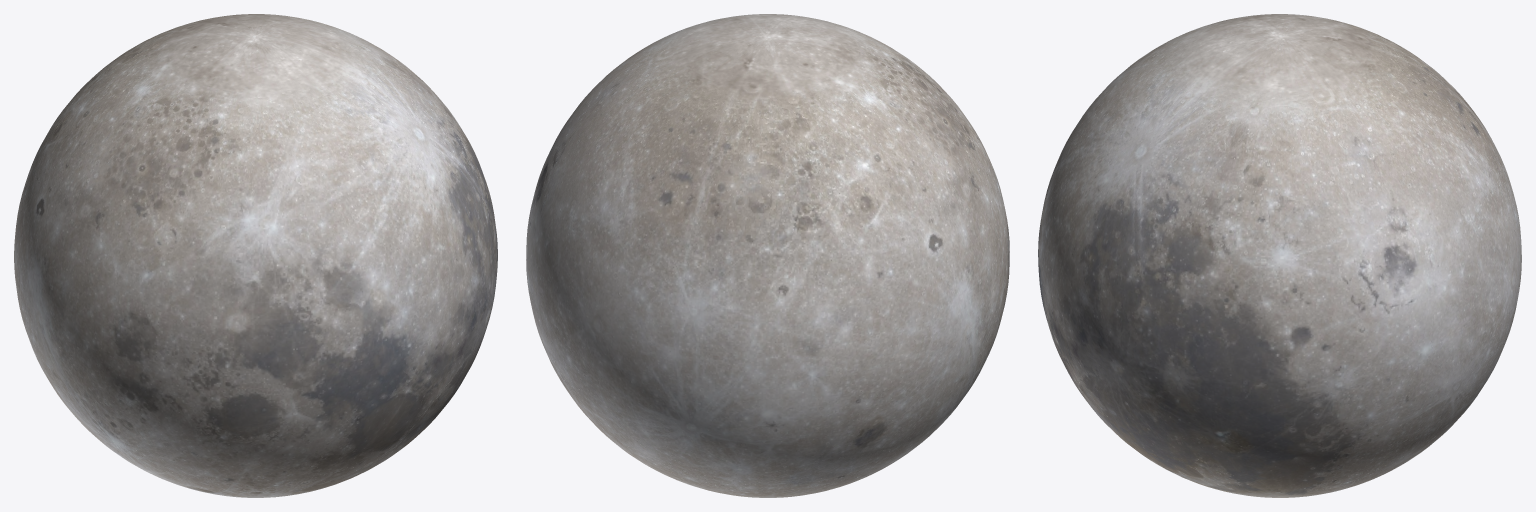
Rendered from moon.gltf.
3 views of the same model, side by side, from view 1: azimuth 30°, elevation 25°; view 2: azimuth 150°, elevation 25°; view 3: azimuth 270°, elevation 25° (orthographic).
Visible parts, largest first — view 1: Sphere; view 2: Sphere; view 3: Sphere.
Boxes of the visible parts, x1,y1,x2,y2 form: Sphere: (14, 14, 497, 497); Sphere: (526, 14, 1009, 497); Sphere: (1038, 14, 1521, 497).
Size of the model in its own units: 0.9997 by 1 by 0.9997.
1 material, 1 textured.
